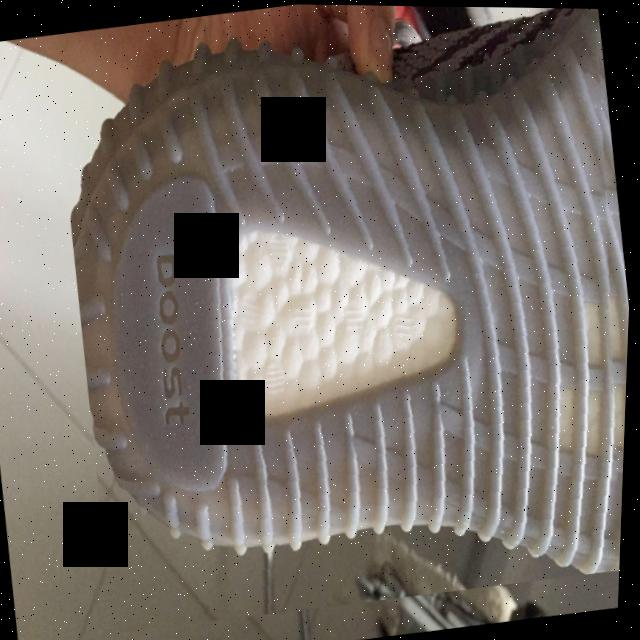shoe: (38, 1, 640, 638)
